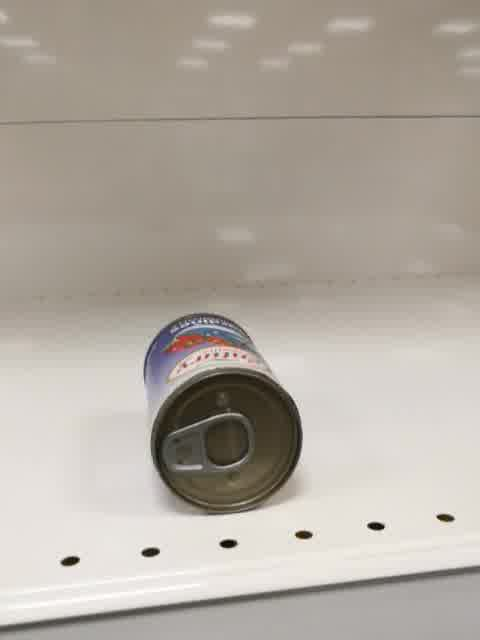sardine: (142, 312, 303, 515)
